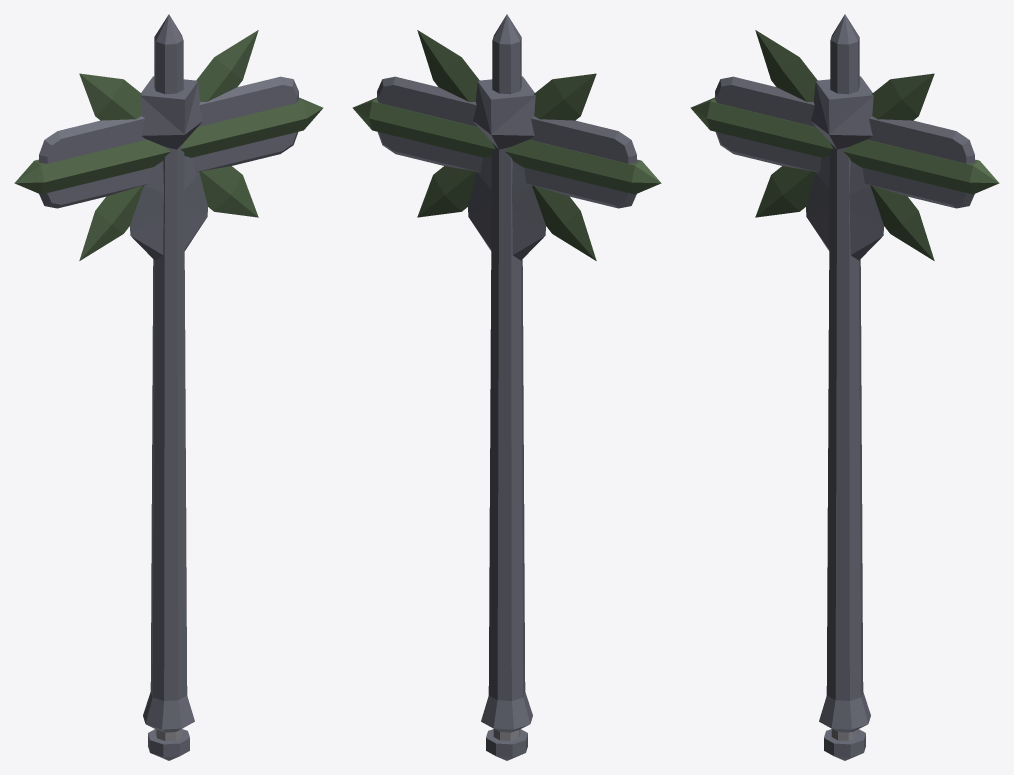
The model's file is hammer_10.glb.
3 renders of one model, left to right at view 1: azimuth 30°, elevation 25°; view 2: azimuth 150°, elevation 25°; view 3: azimuth 330°, elevation 25°, orthographic.
Parts seen in each view (by area): view 1: hammer_10; view 2: hammer_10; view 3: hammer_10.
Boxes of the visible parts, bbox=[...] form: hammer_10: bbox=[14, 14, 323, 760]; hammer_10: bbox=[352, 14, 661, 760]; hammer_10: bbox=[690, 14, 999, 760].
Size of the model in its own units: 0.3845 by 0.8873 by 0.0684.
1 material, 1 textured.
